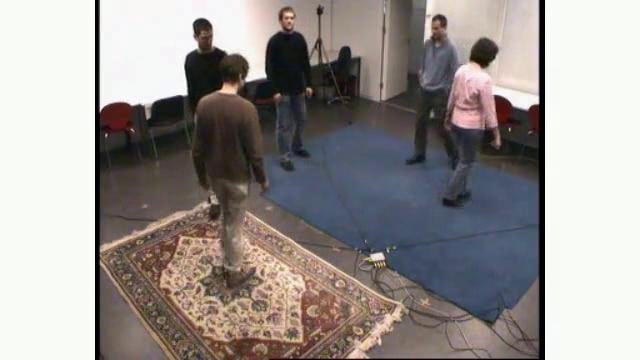normal: (170, 12, 268, 298), (435, 35, 499, 208), (266, 6, 317, 173), (405, 15, 456, 168)
